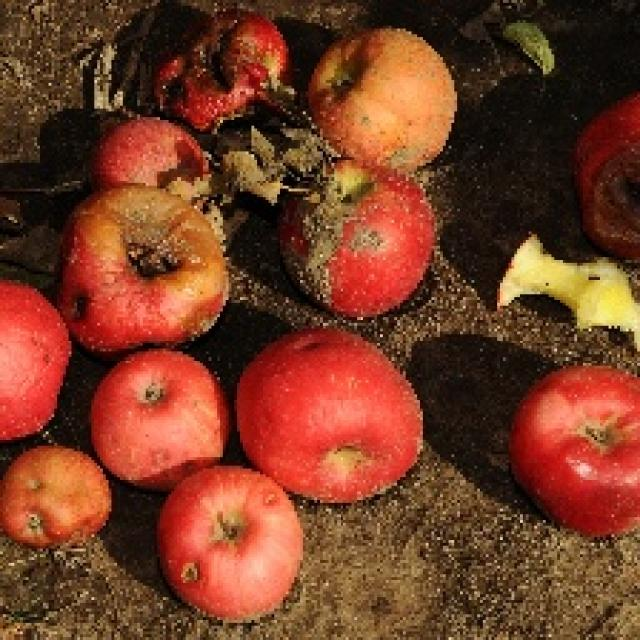rotten_apple: (70, 191, 231, 348), (282, 167, 432, 316), (318, 33, 455, 168), (161, 20, 286, 126), (577, 89, 640, 259), (0, 449, 108, 543)
